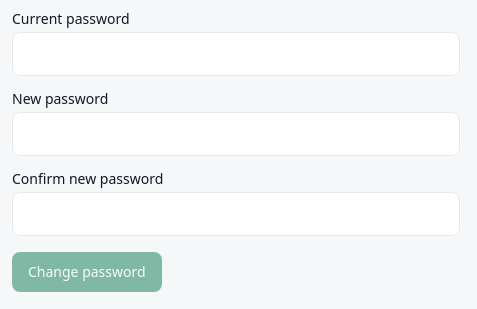
Test: ChangePasswordForm › changes the password, silently re-authenticates, and shows a success state
Type "old-password" into the password field labelled "Current password" at (236, 54), box [12,32,460,76]
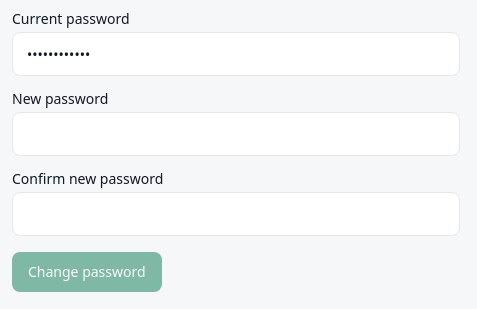
Type "new-password-1" into the password field labelled "New password" at (236, 134), box [12,112,460,156]
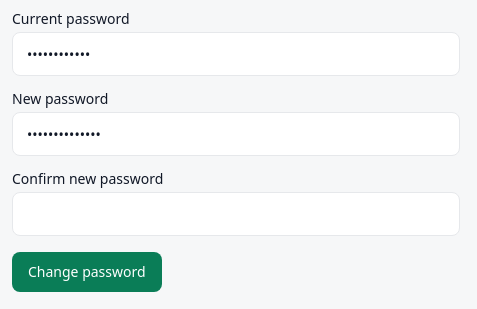
Type "new-password-1" into the password field labelled "Confirm new password" at (236, 214), box [12,192,460,236]
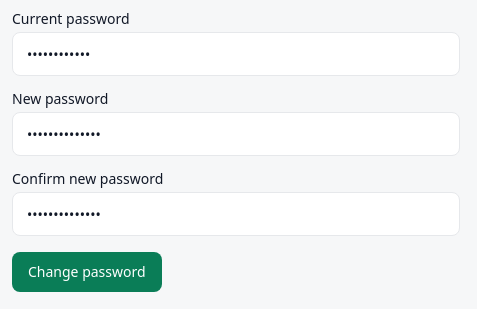
Click the button "Change password" at (87, 272), box [12,252,162,292]
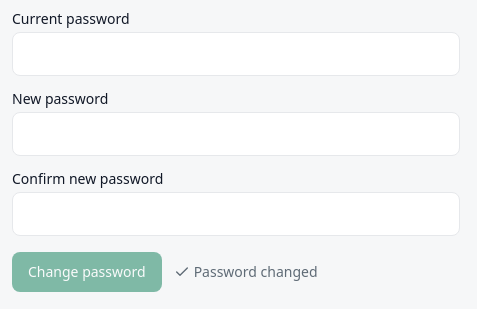
Expected: the text "Password changed" is shown, [174,262,318,282]
